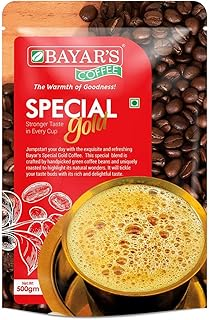Coffee: (2, 1, 209, 315)
